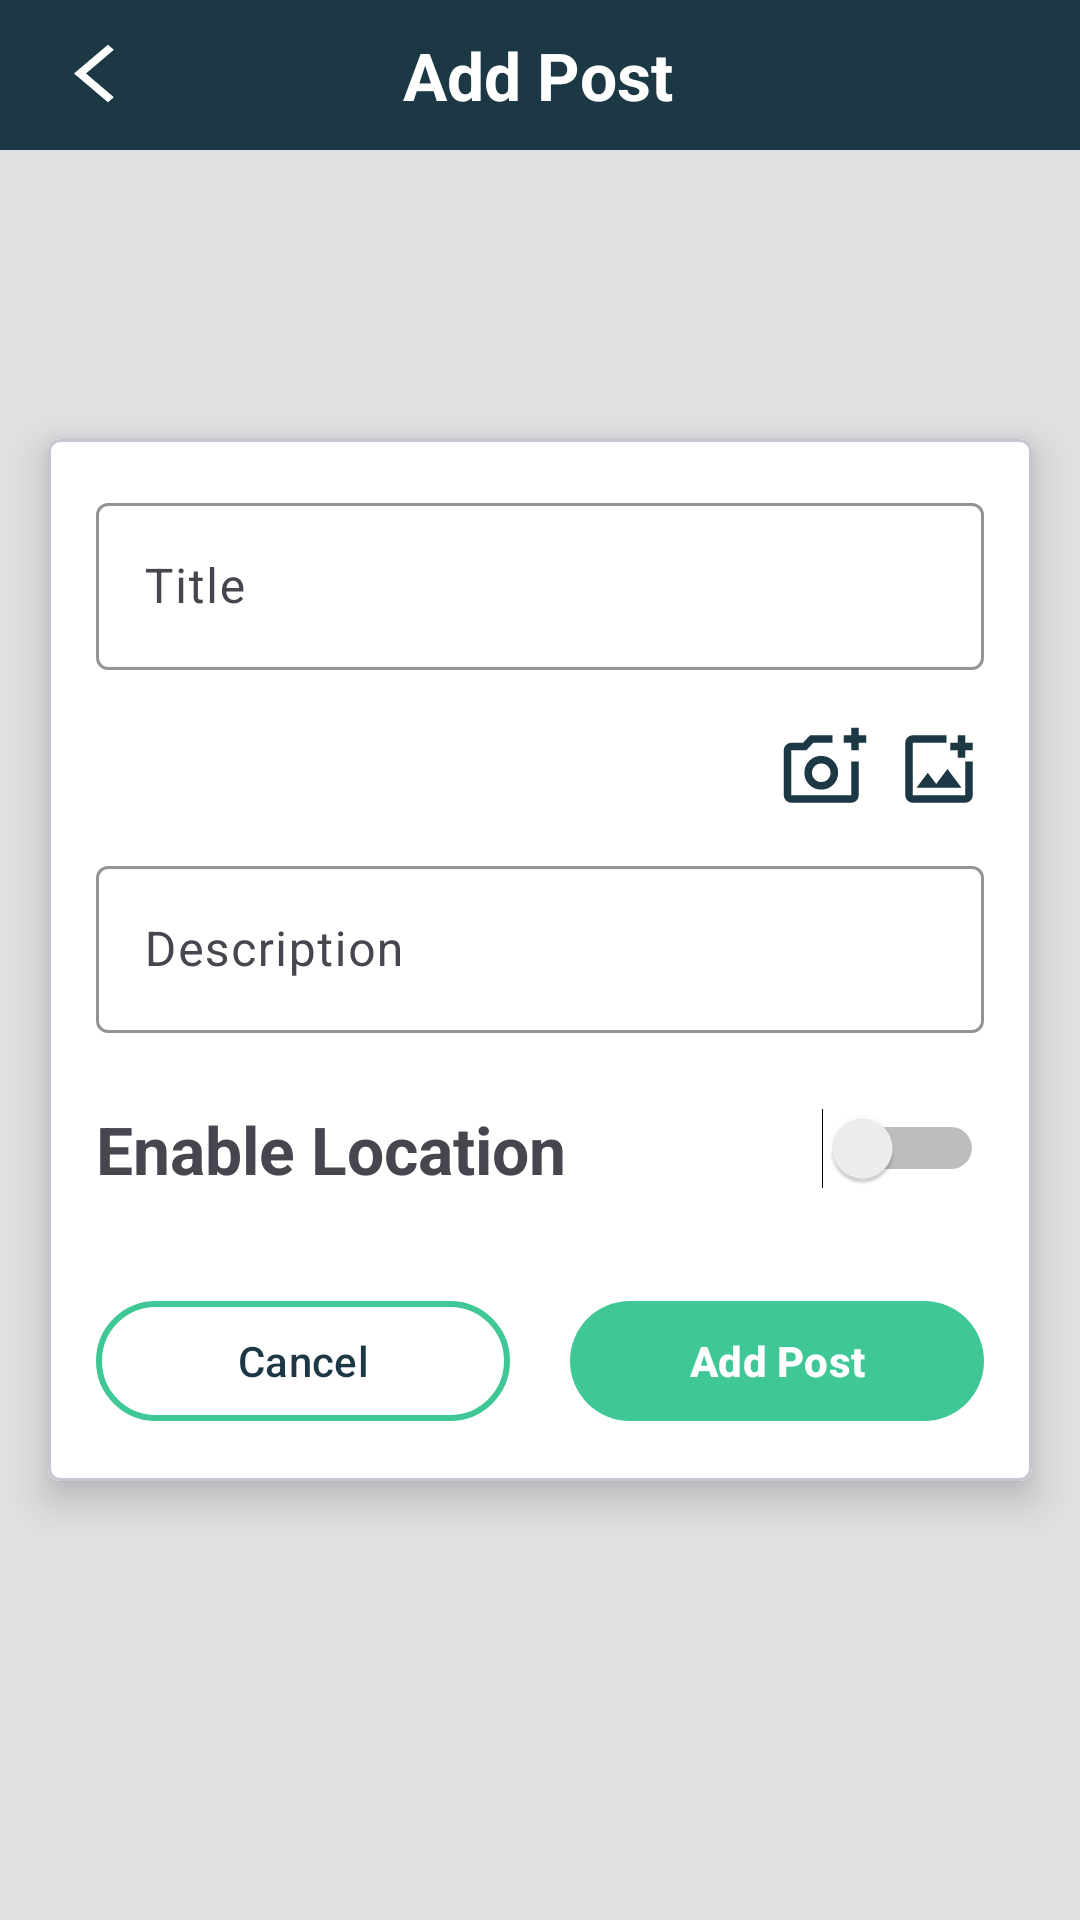

Icon bounding boxes for this 1080px×1920px phone screenshot, format bbox=(x1, y1, x2, y2):
add photo: bbox=(905, 735, 973, 803)
arrow back: bbox=(74, 45, 114, 102)
take photo: bbox=(783, 727, 867, 803)
